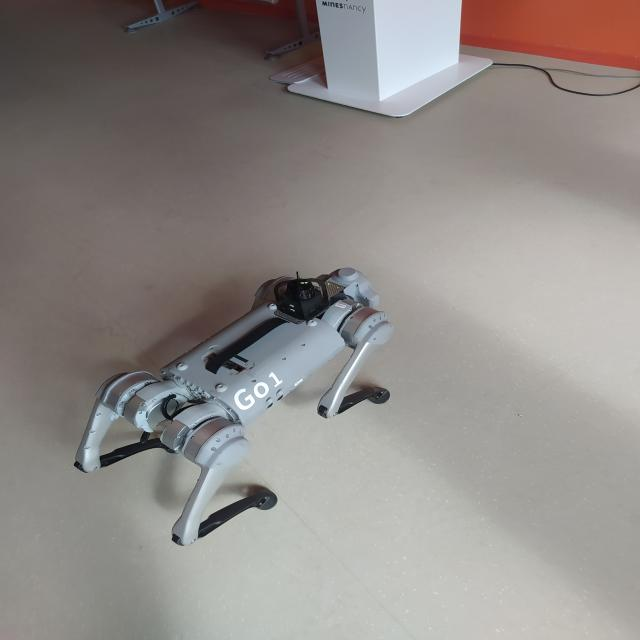unitree-go1-robot: (57, 257, 404, 562)
